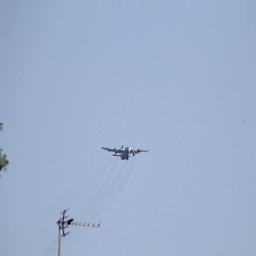Airplane: (101, 143, 149, 161)
